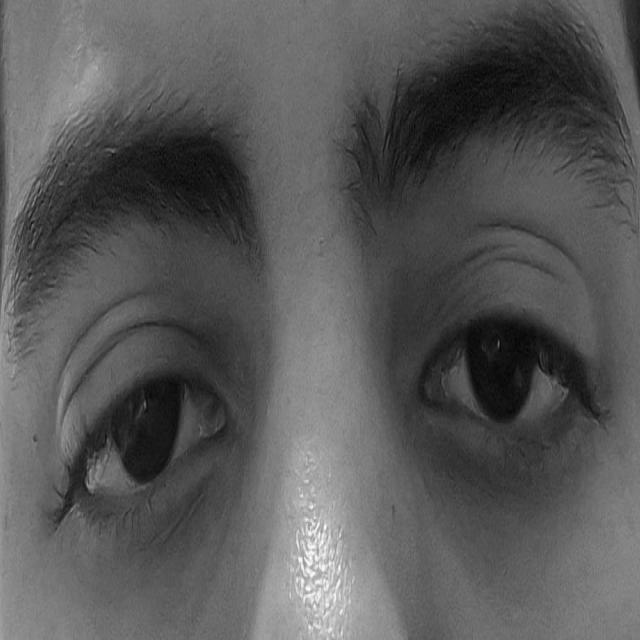real: (26, 188, 632, 592)
